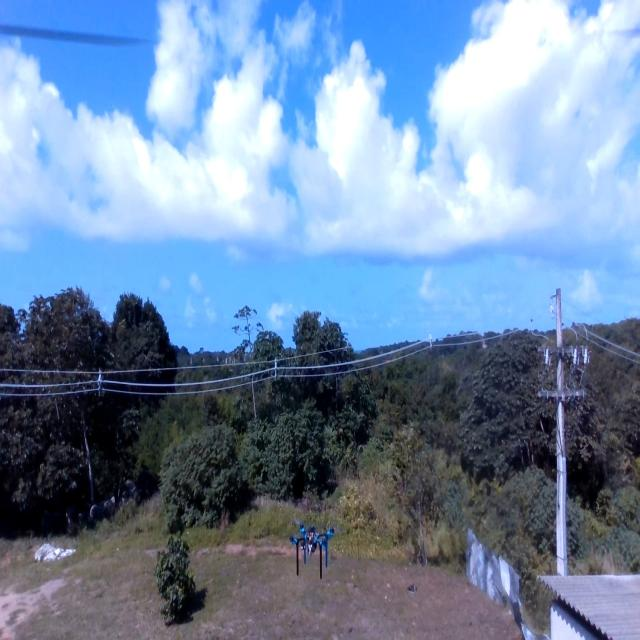-uav-: (285, 505, 345, 588)
